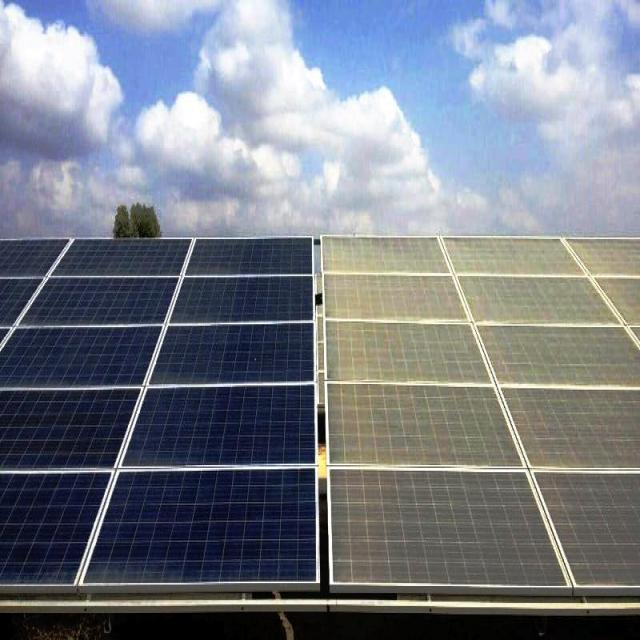faulty: (322, 469, 570, 596), (320, 374, 526, 474), (498, 368, 640, 471), (541, 454, 638, 590), (475, 312, 639, 389), (460, 264, 628, 333), (324, 324, 493, 387), (318, 267, 473, 327), (438, 232, 593, 278), (318, 230, 446, 273), (566, 232, 638, 284)
no faulty: (79, 456, 322, 586), (116, 381, 318, 472), (0, 454, 111, 590), (142, 312, 321, 392), (2, 367, 124, 475), (1, 312, 160, 388), (10, 266, 170, 330), (163, 264, 317, 328), (178, 226, 316, 280), (53, 226, 180, 279)
